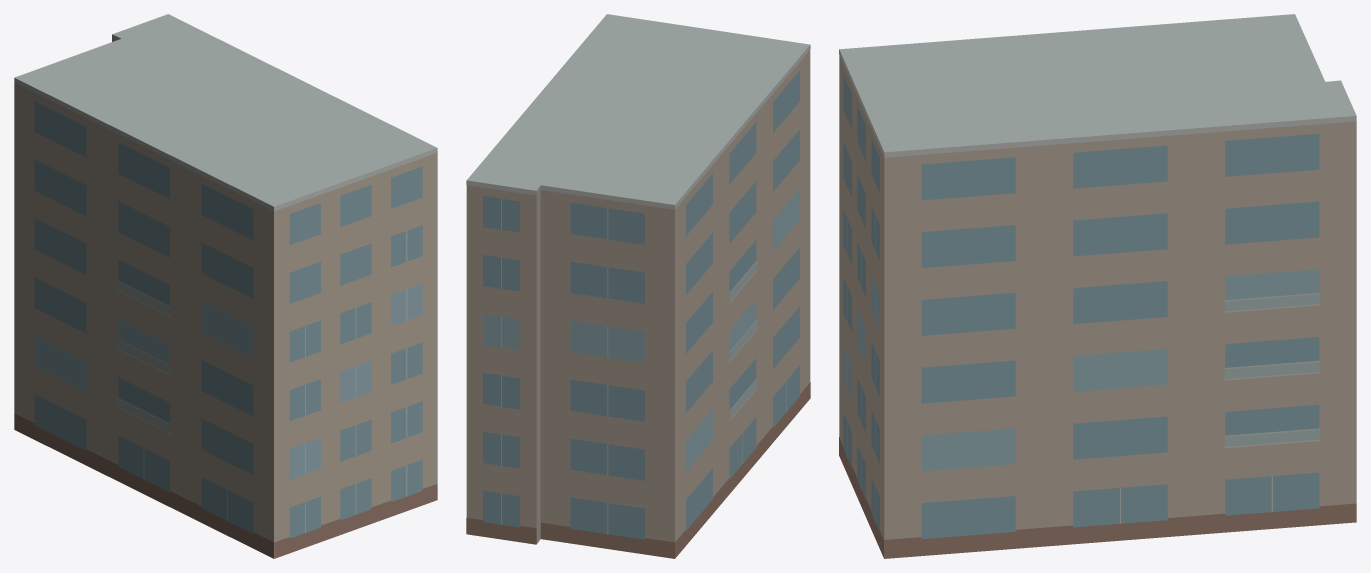
Rendered from survey-upis-32714284.glb.
3 views of the same model, side by side, from view 1: azimuth 30°, elevation 25°; view 2: azimuth 150°, elevation 25°; view 3: azimuth 270°, elevation 25° (orthographic). The views are drawn at different scales.
Parts seen in each view (by area): view 1: survey-upis-32714284.tmp; view 2: survey-upis-32714284.tmp; view 3: survey-upis-32714284.tmp.
Part boxes in pixels (x1,y1,x2,y2): survey-upis-32714284.tmp: (14, 14, 437, 558); survey-upis-32714284.tmp: (466, 14, 810, 558); survey-upis-32714284.tmp: (839, 14, 1356, 558).
Size of the model in its own units: 13.37 by 18.3 by 21.12.
